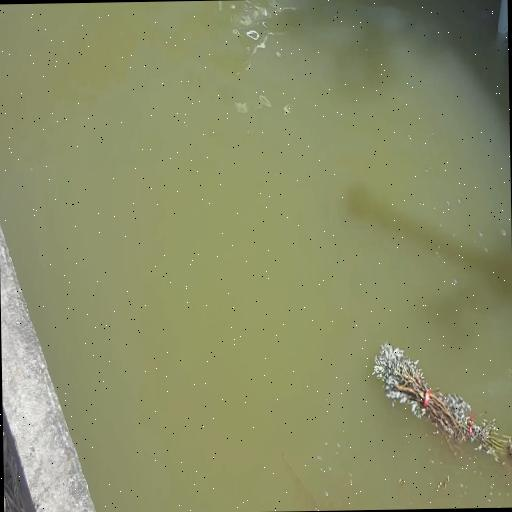twig: (373, 341, 512, 461)
